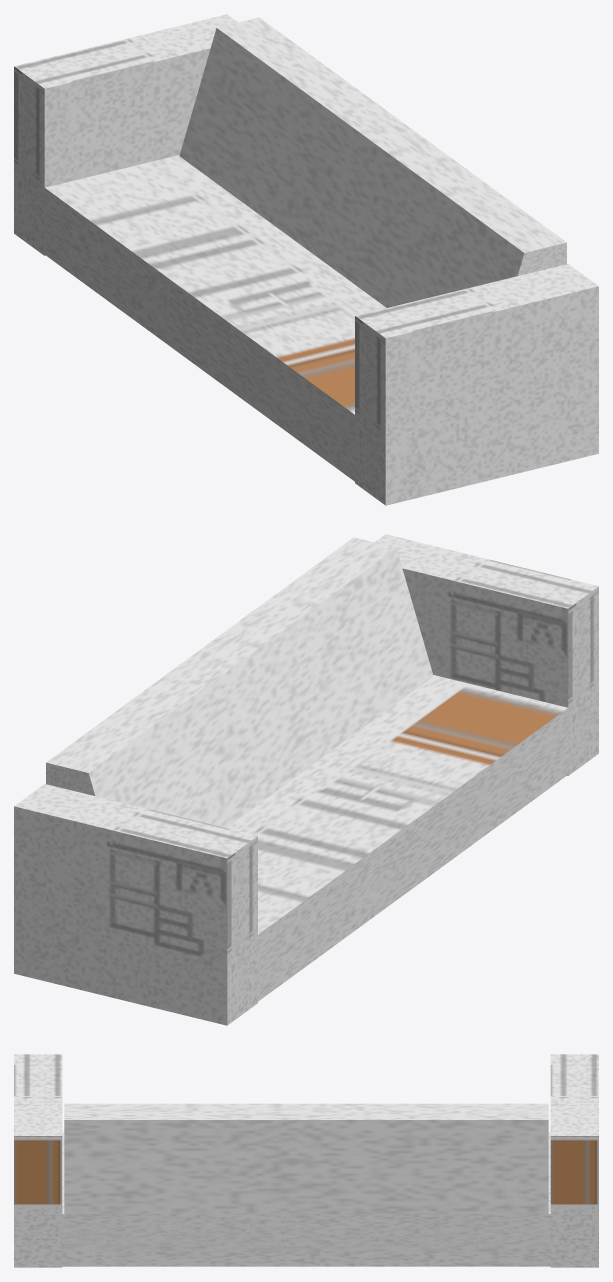
File: couch.fbx
3 views of the same model, one above another, from view 1: azimuth 30°, elevation 25°; view 2: azimuth 150°, elevation 25°; view 3: azimuth 270°, elevation 25° (orthographic). The views are drawn at different scales.
Parts seen in each view (by area): view 1: Couch2; view 2: Couch2; view 3: Couch2.
Boxes of the visible parts, x1,y1,x2,y2 form: Couch2: (14, 14, 598, 505); Couch2: (14, 534, 598, 1025); Couch2: (14, 1054, 598, 1267).
Size of what is drawn, in the model's own units: 1 by 0.8411 by 3.02.
